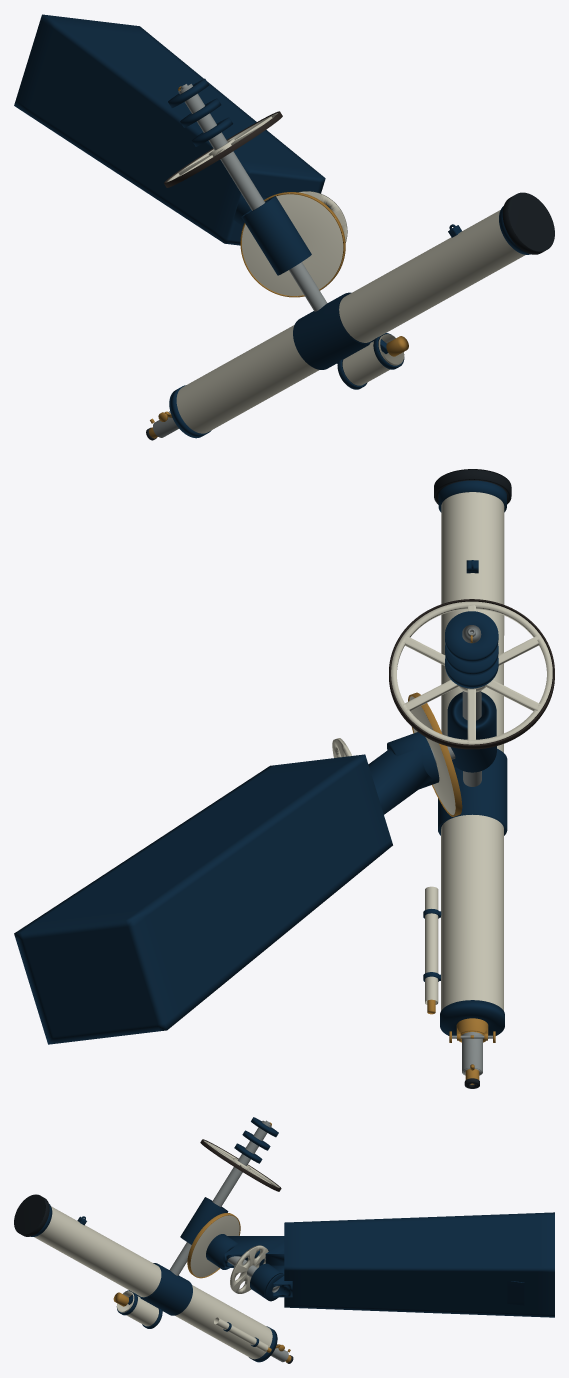
The model's file is telescope.glb.
3 renders of one model, top to bottom at view 1: azimuth 30°, elevation 25°; view 2: azimuth 150°, elevation 25°; view 3: azimuth 270°, elevation 25°, orthographic. The views are drawn at different scales.
Visible parts, largest first — view 1: fixed_pier_painted_steel, optical_carrier_painted_steel, ra_carrier_painted_steel, optical_carrier_steel, objective_cover_painted_steel, ra_carrier_brass; view 2: fixed_pier_painted_steel, optical_carrier_painted_steel, ra_carrier_painted_steel, objective_cover_painted_steel, ra_carrier_brass, optical_carrier_steel, focuser_drawtube_steel; view 3: fixed_pier_painted_steel, optical_carrier_painted_steel, ra_carrier_painted_steel, optical_carrier_steel, objective_cover_painted_steel, ra_carrier_brass.
Boxes of the visible parts, x1,y1,x2,y2 form: fixed_pier_painted_steel: (14, 14, 330, 245); optical_carrier_painted_steel: (164, 78, 530, 438); ra_carrier_painted_steel: (241, 191, 347, 295); optical_carrier_steel: (178, 83, 327, 311); objective_cover_painted_steel: (502, 192, 554, 254); ra_carrier_brass: (240, 192, 345, 297); fixed_pier_painted_steel: (14, 732, 439, 1044); optical_carrier_painted_steel: (389, 480, 554, 1035); ra_carrier_painted_steel: (332, 692, 496, 815); objective_cover_painted_steel: (434, 469, 511, 504); ra_carrier_brass: (408, 692, 462, 816); optical_carrier_steel: (462, 625, 481, 786); focuser_drawtube_steel: (462, 1032, 482, 1075); fixed_pier_painted_steel: (206, 1212, 554, 1317); optical_carrier_painted_steel: (31, 1117, 281, 1362); ra_carrier_painted_steel: (180, 1197, 268, 1293); optical_carrier_steel: (169, 1120, 271, 1275); objective_cover_painted_steel: (14, 1194, 49, 1236); ra_carrier_brass: (187, 1213, 240, 1278).
Bounding box in the file's own units: 1.82 × 2.73 × 5.3.
